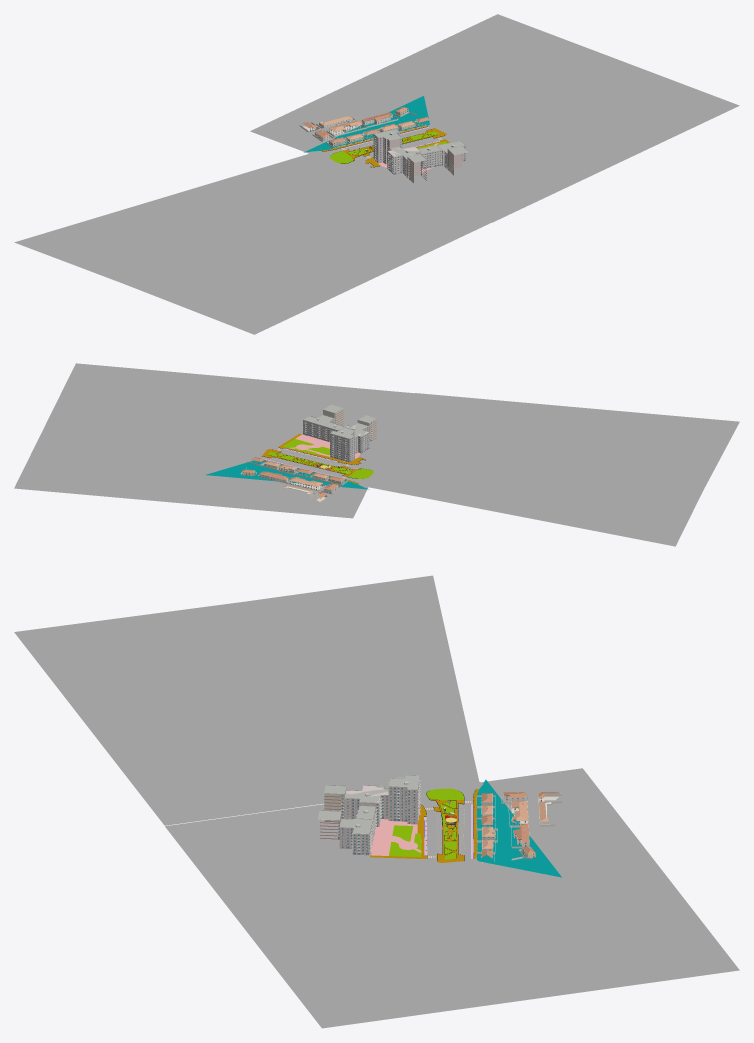
3 views of the same model, one above another, from view 1: azimuth 30°, elevation 25°; view 2: azimuth 150°, elevation 25°; view 3: azimuth 270°, elevation 25° (orthographic). The views are drawn at different scales.
Parts seen in each view (by area): view 1: CEM Benfica P01-P03; view 2: CEM Benfica P01-P03; view 3: CEM Benfica P01-P03.
Boxes of the visible parts, x1,y1,x2,y2 form: CEM Benfica P01-P03: (14,14,739,334); CEM Benfica P01-P03: (14,363,739,546); CEM Benfica P01-P03: (14,575,739,1028).
Bounding box in the file's own units: 932 × 35.04 × 632.
Materials: 109 (28 with a texture image).
